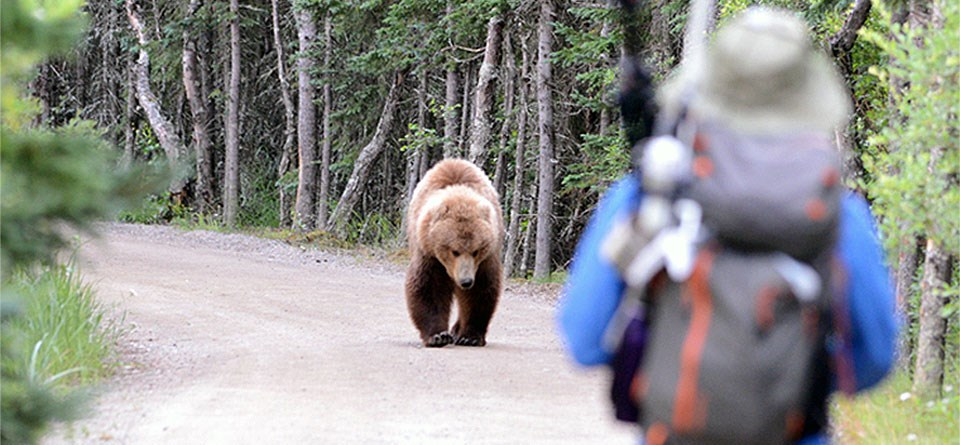bear: (421, 213, 502, 294)
